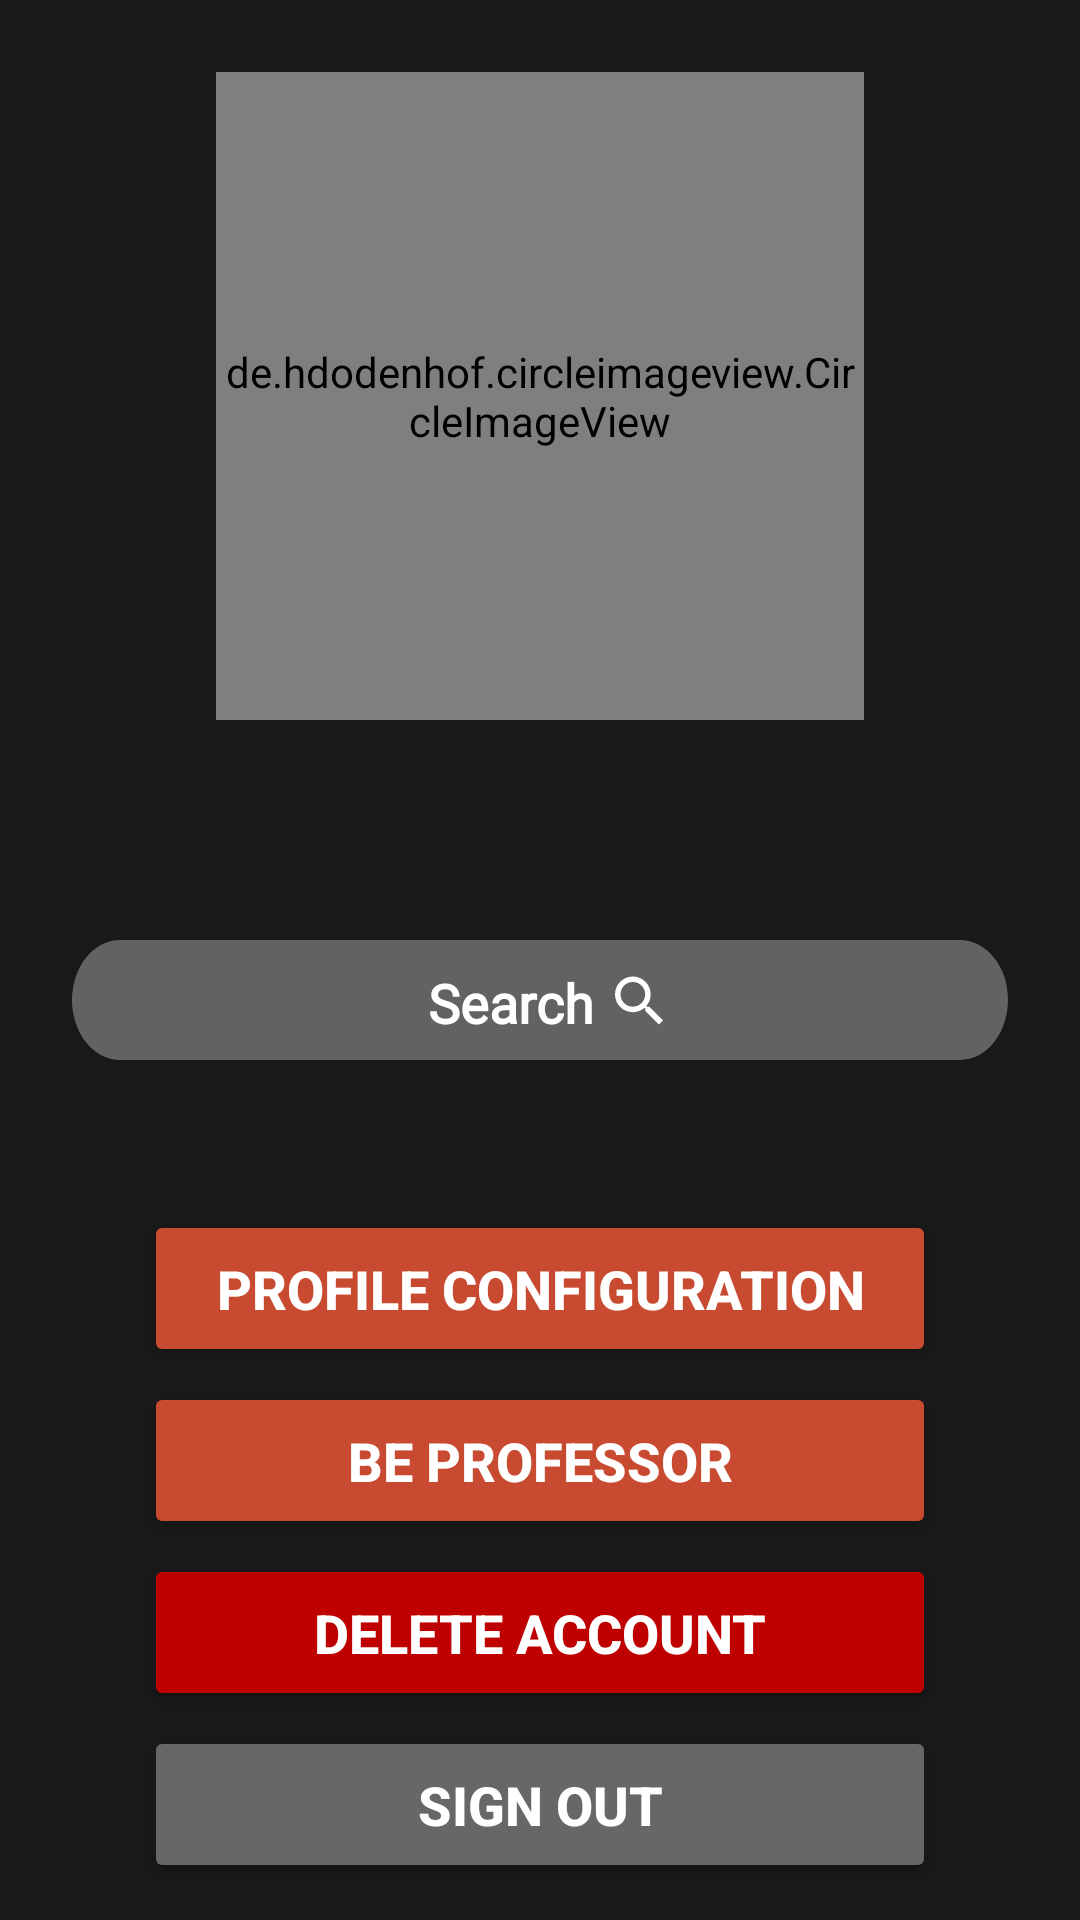

Locate icon controls on the screen. Image size 1080px x 1920px, boxes as (x1, y1, x2, y2).
magnifying glass: (615, 976, 663, 1025)
